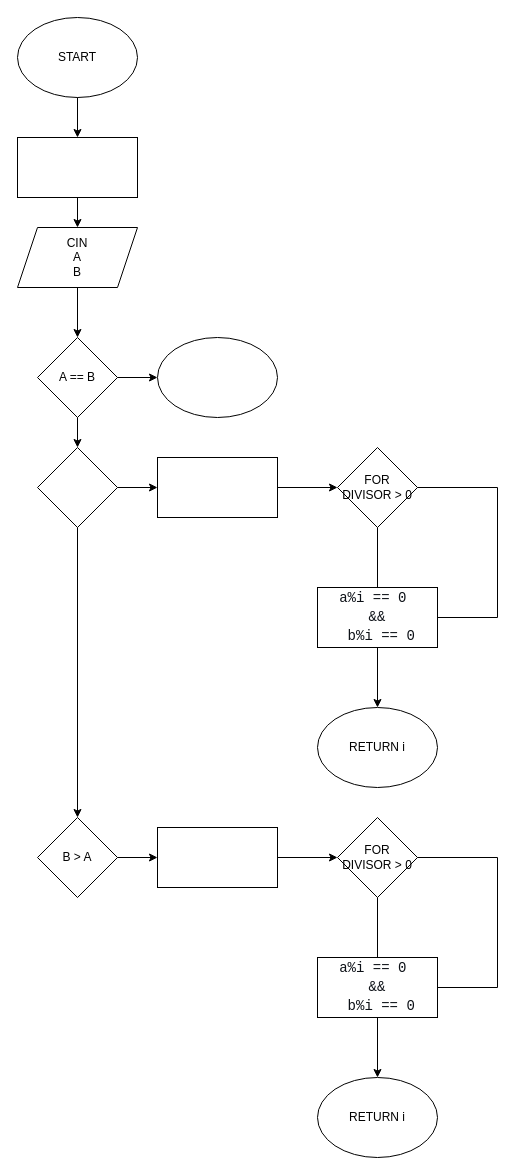
The diagram is 516 pixels wide and 1175 high, and some of its shapes have lost their labels. Here are the shapes that lost their labels. From the top down, the centre of each, then its label:
At point (77, 167): "INT A INT B INT DIVISOR INT RESULT".
At point (217, 377): "RETURN A".
At point (77, 487): "A > B".
At point (217, 487): "DIVISOR = B".
At point (217, 857): "DIVISOR = A".
